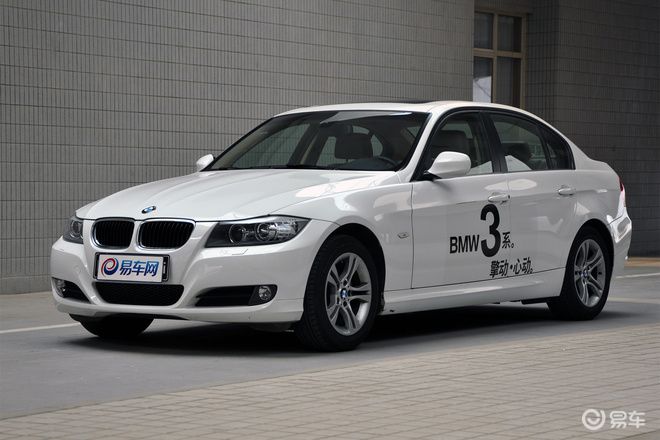car: (44, 67, 650, 376)
